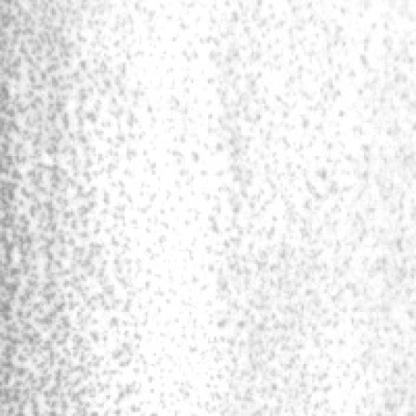pitted_surface: (179, 0, 412, 414), (0, 0, 150, 414)
